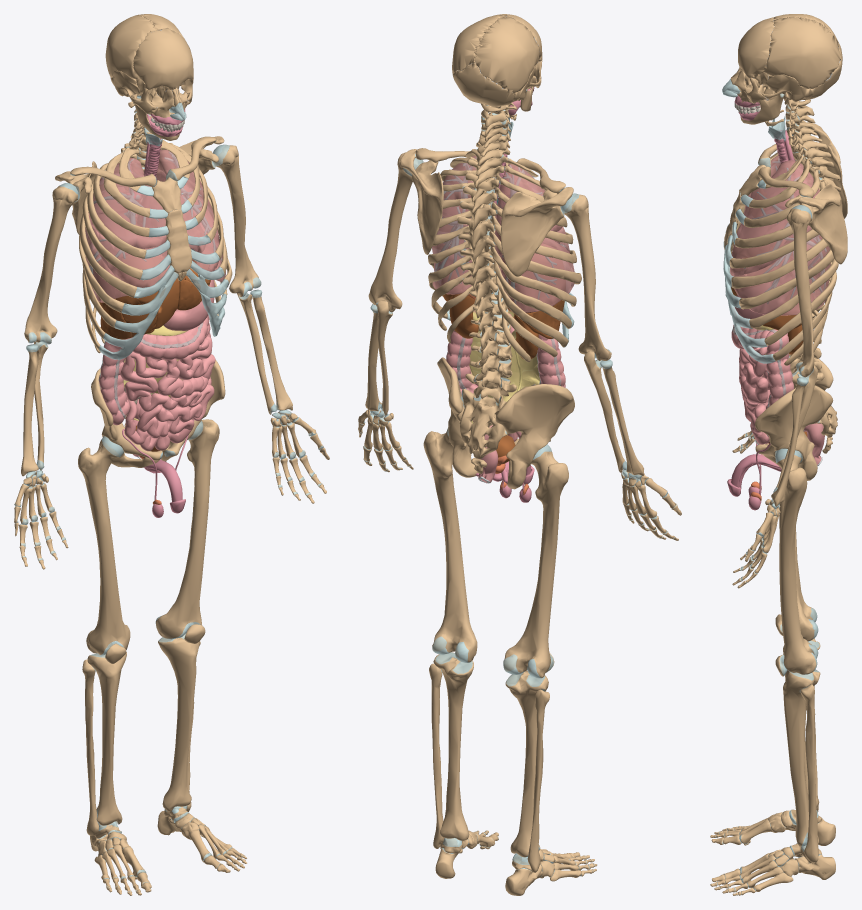
The model's file is splanchnology.glb.
The picture shows the model from 3 angles, left to right: view 1: azimuth 30°, elevation 25°; view 2: azimuth 150°, elevation 25°; view 3: azimuth 270°, elevation 25°; orthographic projection. The views are drawn at different scales.
Visible parts, largest first — view 1: Object_8, Object_53, Object_41, Object_62, Object_70, Object_66, Object_2, Object_34; view 2: Object_8, Object_34, Object_62, Object_41, Object_53, Object_70, Object_77, Object_2, Object_66; view 3: Object_8, Object_62, Object_41, Object_53, Object_34, Object_66, Object_2, Object_70.
Boxes of the visible parts, x1,y1,x2,y2 form: Object_8: (14,14,329,895); Object_53: (99,280,215,456); Object_41: (14,95,323,891); Object_62: (85,149,225,302); Object_70: (99,259,210,451); Object_66: (126,108,185,517); Object_2: (89,152,221,273); Object_34: (121,97,152,427); Object_8: (358,14,681,895); Object_34: (457,102,516,473); Object_62: (432,155,574,312); Object_41: (360,89,676,877); Object_53: (446,311,565,482); Object_70: (443,293,564,463); Object_77: (469,311,539,434); Object_2: (435,157,565,303); Object_66: (461,87,534,502); Object_8: (710,14,847,895); Object_62: (730,155,830,315); Object_41: (715,79,820,894); Object_53: (731,295,824,464); Object_34: (784,99,840,453); Object_66: (727,95,794,510); Object_2: (744,158,826,303); Object_70: (729,251,807,443).
Size of the model in its own units: 0.6692 by 1.7 by 0.25.
